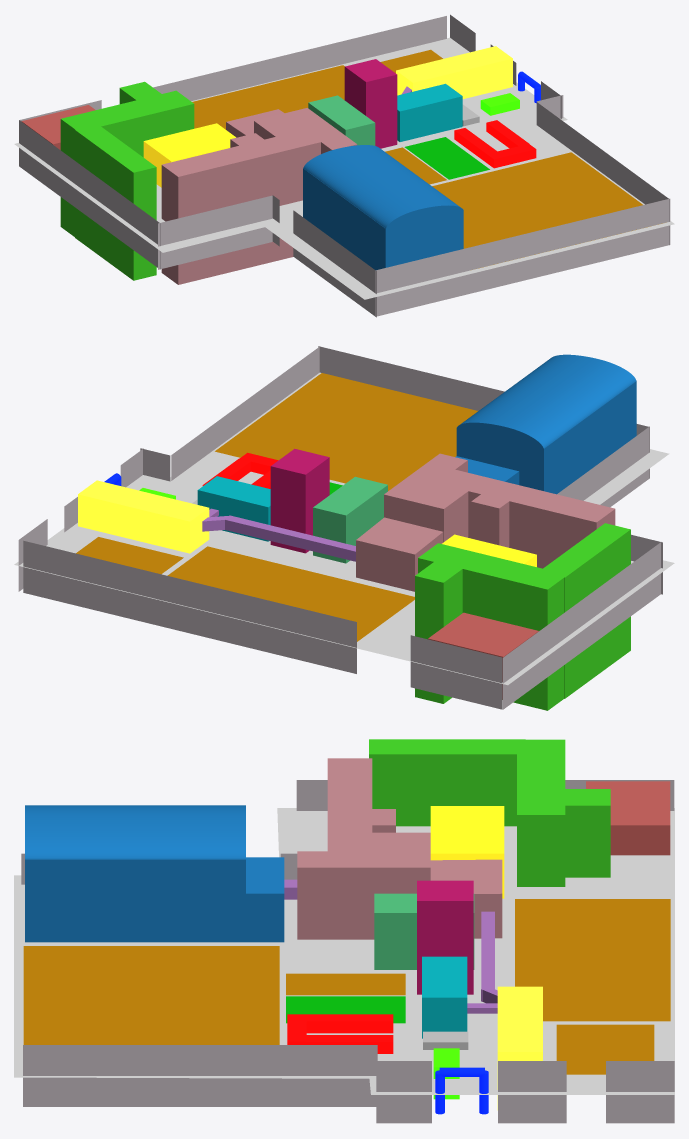
File: Tokai School Building.fbx
3 renders of one model, top to bottom at view 1: azimuth 30°, elevation 25°; view 2: azimuth 150°, elevation 25°; view 3: azimuth 270°, elevation 25°, orthographic. The views are drawn at different scales.
Parts seen in each view (by area): view 1: getabako, taikukan.001, Plane.009, Cube.002, ground.002, ground.001, Plane.007, Plane.008, Plane.013, ground, honkan, hyakushikan (+12 smaller); view 2: Cube.002, Plane.007, taikukan.001, getabako, ground.002, ground.001, ground, Plane.008, honkan, Plane.015, Plane.009, hyakushikan (+13 smaller); view 3: taikukan.001, ground.001, ground.002, Cube.002, Plane.011, ground, getabako, hyakushikan, tokubetutou, ground.005, Cube, Plane.018 (+12 smaller).
Boxes of the visible parts, bbox=[...] form: getabako: bbox=[161, 108, 357, 284]; taikukan.001: bbox=[303, 145, 463, 270]; Plane.009: bbox=[375, 198, 670, 316]; Cube.002: bbox=[60, 81, 194, 280]; ground.002: bbox=[432, 152, 662, 268]; ground.001: bbox=[14, 37, 674, 299]; Plane.007: bbox=[153, 16, 446, 100]; Plane.008: bbox=[19, 120, 160, 269]; Plane.013: bbox=[158, 195, 272, 269]; ground: bbox=[192, 65, 344, 129]; honkan: bbox=[396, 46, 512, 98]; hyakushikan: bbox=[344, 59, 397, 148]; Cube.002: bbox=[415, 523, 630, 710]; Plane.007: bbox=[23, 540, 356, 673]; taikukan.001: bbox=[455, 354, 636, 494]; getabako: bbox=[356, 453, 615, 591]; ground.002: bbox=[215, 373, 477, 490]; ground.001: bbox=[14, 372, 674, 685]; ground: bbox=[167, 546, 414, 641]; Plane.008: bbox=[503, 542, 660, 709]; honkan: bbox=[78, 480, 209, 553]; Plane.015: bbox=[410, 635, 502, 709]; Plane.009: bbox=[318, 346, 649, 478]; hyakushikan: bbox=[270, 448, 329, 553]; taikukan.001: bbox=[25, 805, 284, 942]; ground.001: bbox=[14, 808, 674, 1094]; ground.002: bbox=[23, 946, 279, 1044]; Cube.002: bbox=[369, 739, 610, 886]; Plane.011: bbox=[23, 1045, 377, 1106]; ground: bbox=[515, 899, 670, 1021]; getabako: bbox=[297, 758, 502, 939]; hyakushikan: bbox=[417, 880, 473, 994]; tokubetutou: bbox=[586, 781, 670, 855]; ground.005: bbox=[556, 1024, 654, 1074]; Cube: bbox=[430, 806, 504, 898]; Plane.018: bbox=[606, 1061, 674, 1123].
Bounding box in the file's own units: 2984 × 824 × 2905.
